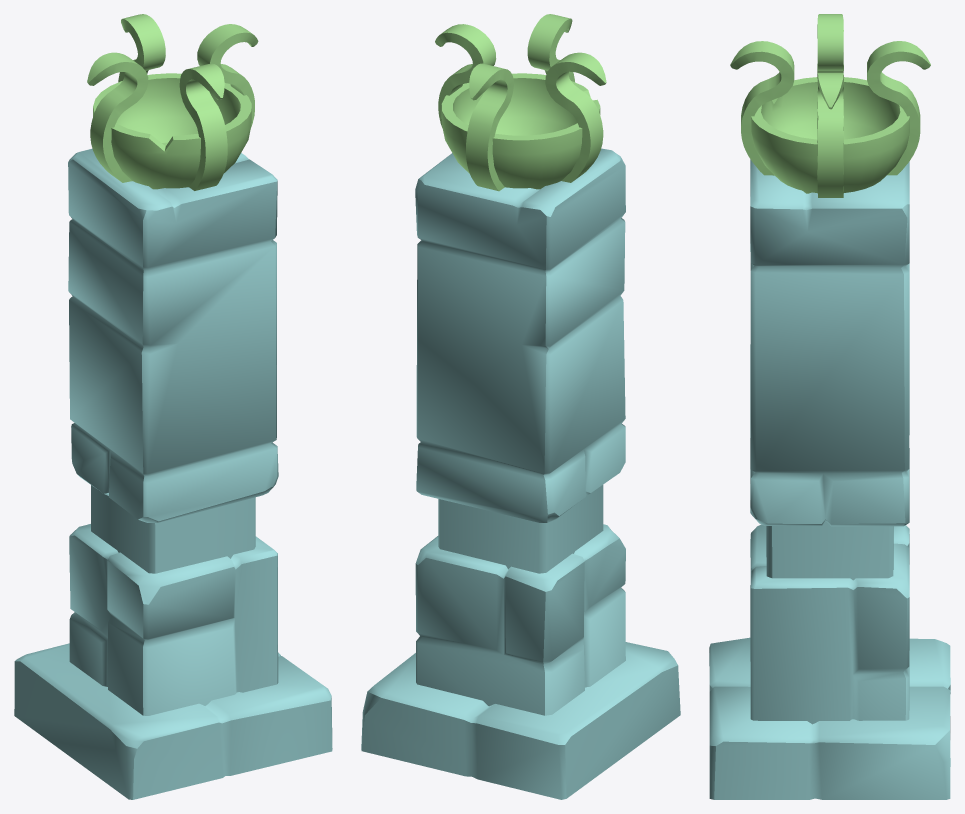
Rendered from SM_Fence_6.fbx.
3 renders of one model, left to right at view 1: azimuth 30°, elevation 25°; view 2: azimuth 150°, elevation 25°; view 3: azimuth 270°, elevation 25°, orthographic. The views are drawn at different scales.
Visible parts, largest first — view 1: SM_Fence_6; view 2: SM_Fence_6; view 3: SM_Fence_6.
Boxes of the visible parts, <box> form: SM_Fence_6: <box>14,14,332,799</box>; SM_Fence_6: <box>361,14,680,799</box>; SM_Fence_6: <box>709,14,950,799</box>.
Size of the model in its own units: 41.75 by 134 by 41.74.
